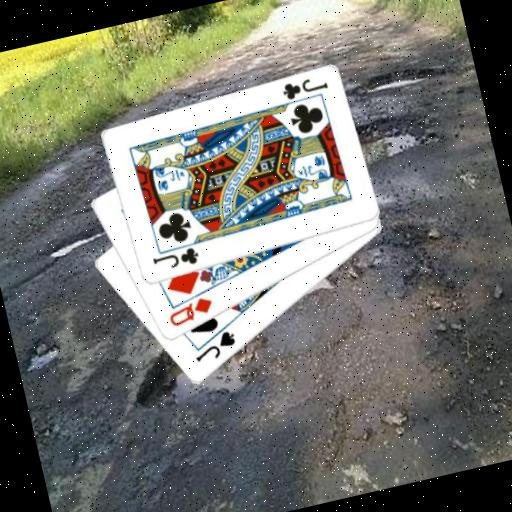JC: (148, 244, 202, 276), (278, 72, 331, 104)
JS: (187, 326, 240, 366)
QD: (162, 293, 217, 331)
